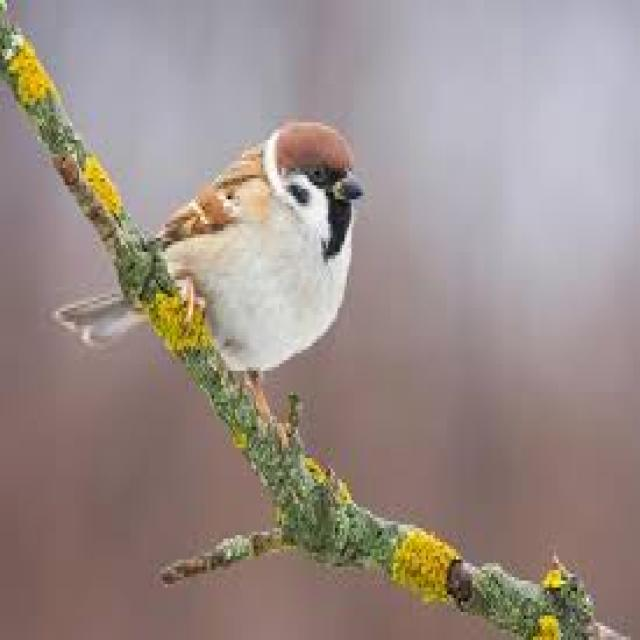bird: (61, 108, 362, 370)
